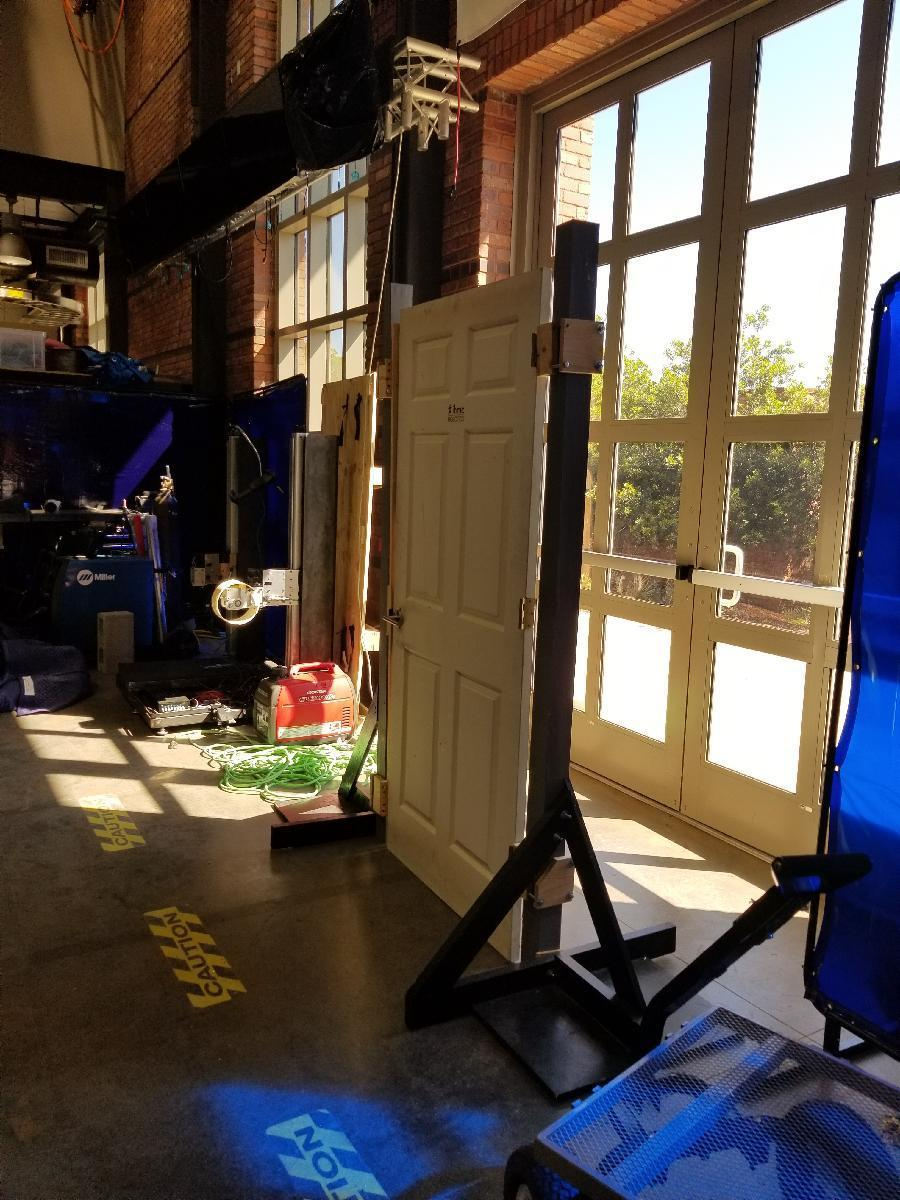door: (396, 278, 534, 947)
handle: (382, 606, 405, 630)
